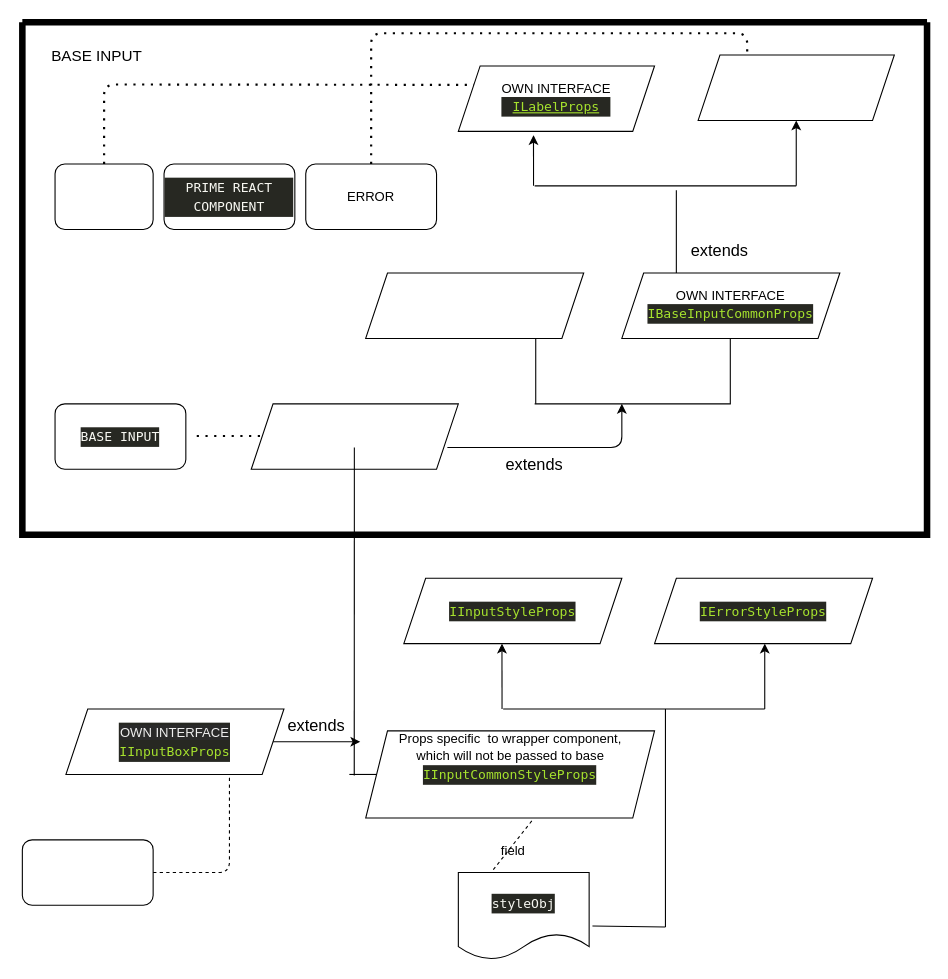
The diagram is 948 pixels wide and 979 high, and some of its shapes have lost their labels. Each missing label, with the centre of its shape:
LABEL: the point at 103,196
OWN INTERFACE [PRIME_COMP]Props: the point at 474,305
OWN INTERFACE I[COMPONENT_NAME]Props: the point at 354,436
OWN INTERFACE IInputErrorProps: the point at 795,87
WARAPPER INPUT: the point at 87,872
